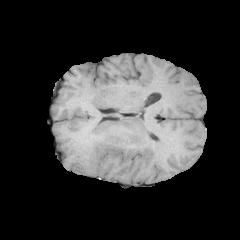glioma: (65, 110, 160, 175)
